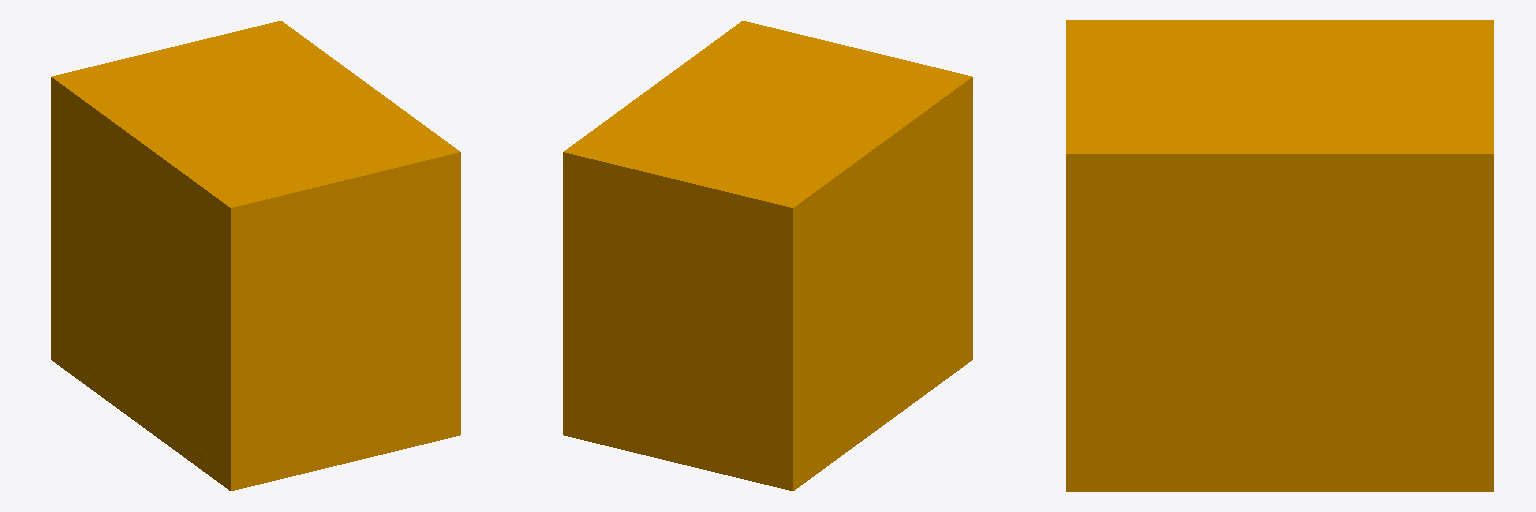
URDF robot description (object):
<robot name="object">
  <link name="object">
    <visual>
      <origin xyz="0 0 0" />
      <geometry>
        <box size="0.068 0.09200000000000003 0.08" />
      </geometry>
    </visual>

    <collision>
      <origin xyz="0 0 0" />
      <geometry>
        <box size="0.068 0.09200000000000003 0.08" />
      </geometry>
    </collision>

    <inertial>
      <mass value="0.05" />
      <inertia ixx="0.0001" ixy="0.0" ixz="0.0" iyy="0.0001" iyz="0.0" izz="0.0001" />
    </inertial>
  </link>
</robot>

--- Facts derived from the render (not from the file) ---
Views: 3 orthographic renders of the robot side by side, from view 1: azimuth 30°, elevation 25°; view 2: azimuth 150°, elevation 25°; view 3: azimuth 270°, elevation 25°.
Robot: object — 1 links, 0 joints (none); root link object; default pose: every joint at zero.
Visible links, largest first — view 1: object; view 2: object; view 3: object.
Boxes of the visible links, x1,y1,x2,y2 form: object: (51,21,460,490); object: (563,21,972,490); object: (1066,20,1493,491).
Size in the robot's own frame: 0.068 by 0.092 by 0.08 metres.
Geometry: primitives only (box / cylinder / sphere), no mesh files.